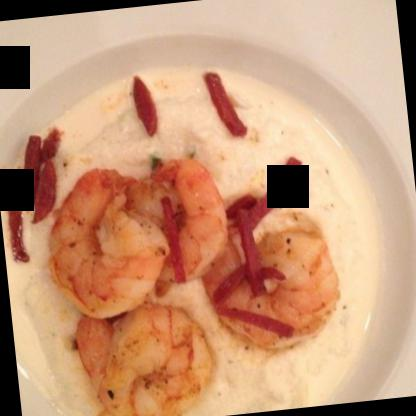shrimp: (44, 164, 176, 320), (79, 297, 227, 415), (201, 226, 341, 344), (143, 154, 234, 282)
